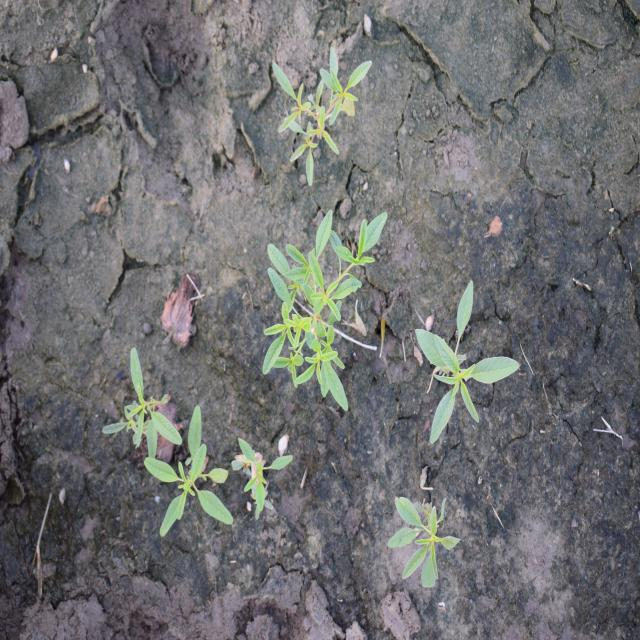Waterhemp: (261, 208, 389, 412), (414, 278, 522, 446), (271, 45, 374, 188), (143, 404, 236, 540), (100, 345, 184, 463), (386, 494, 464, 591), (230, 434, 294, 524)
